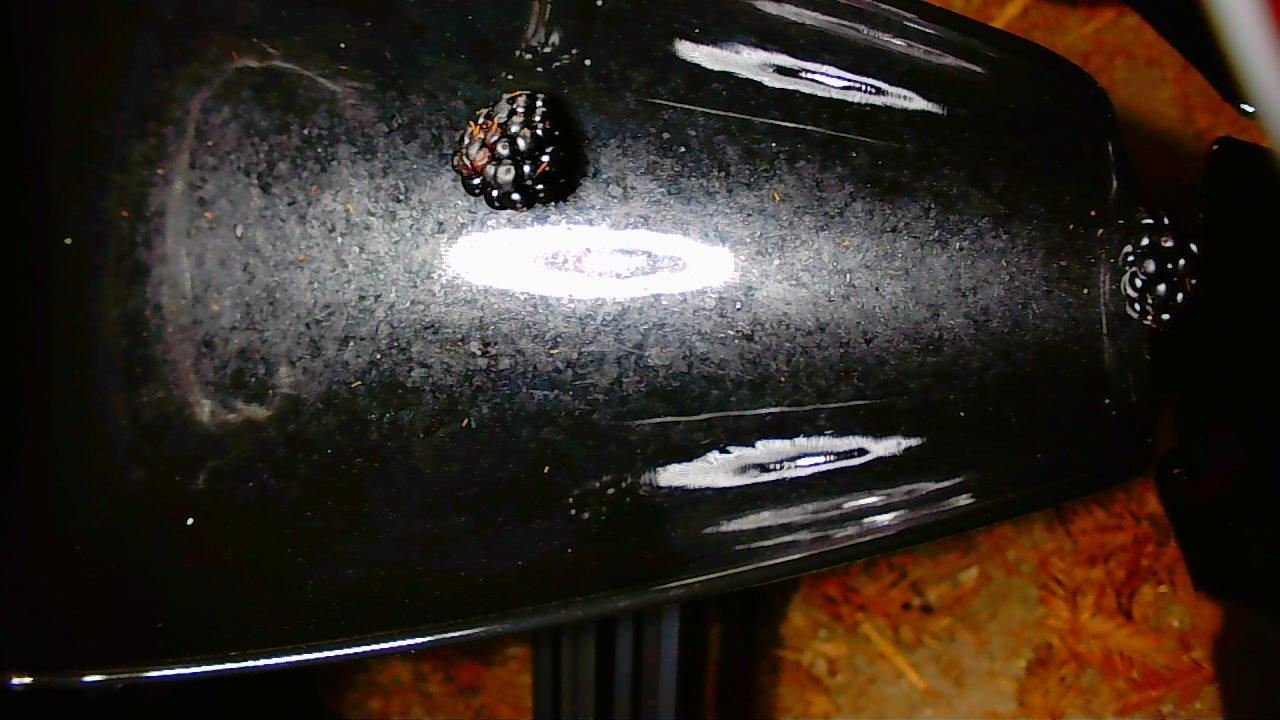berry: (451, 92, 576, 210), (1121, 216, 1197, 327)
